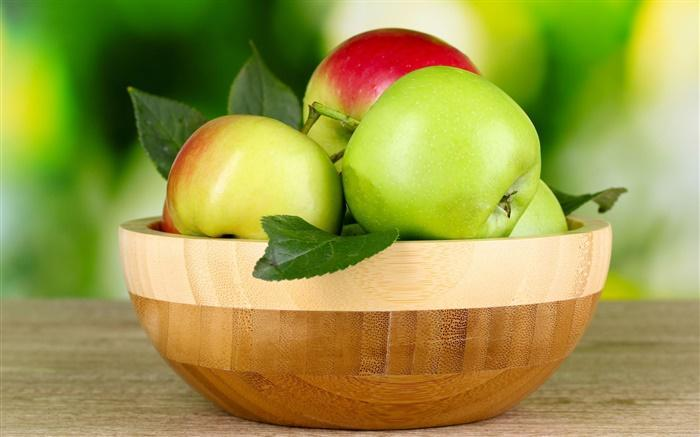apple: (343, 64, 541, 238), (161, 112, 346, 245), (298, 26, 480, 128)
